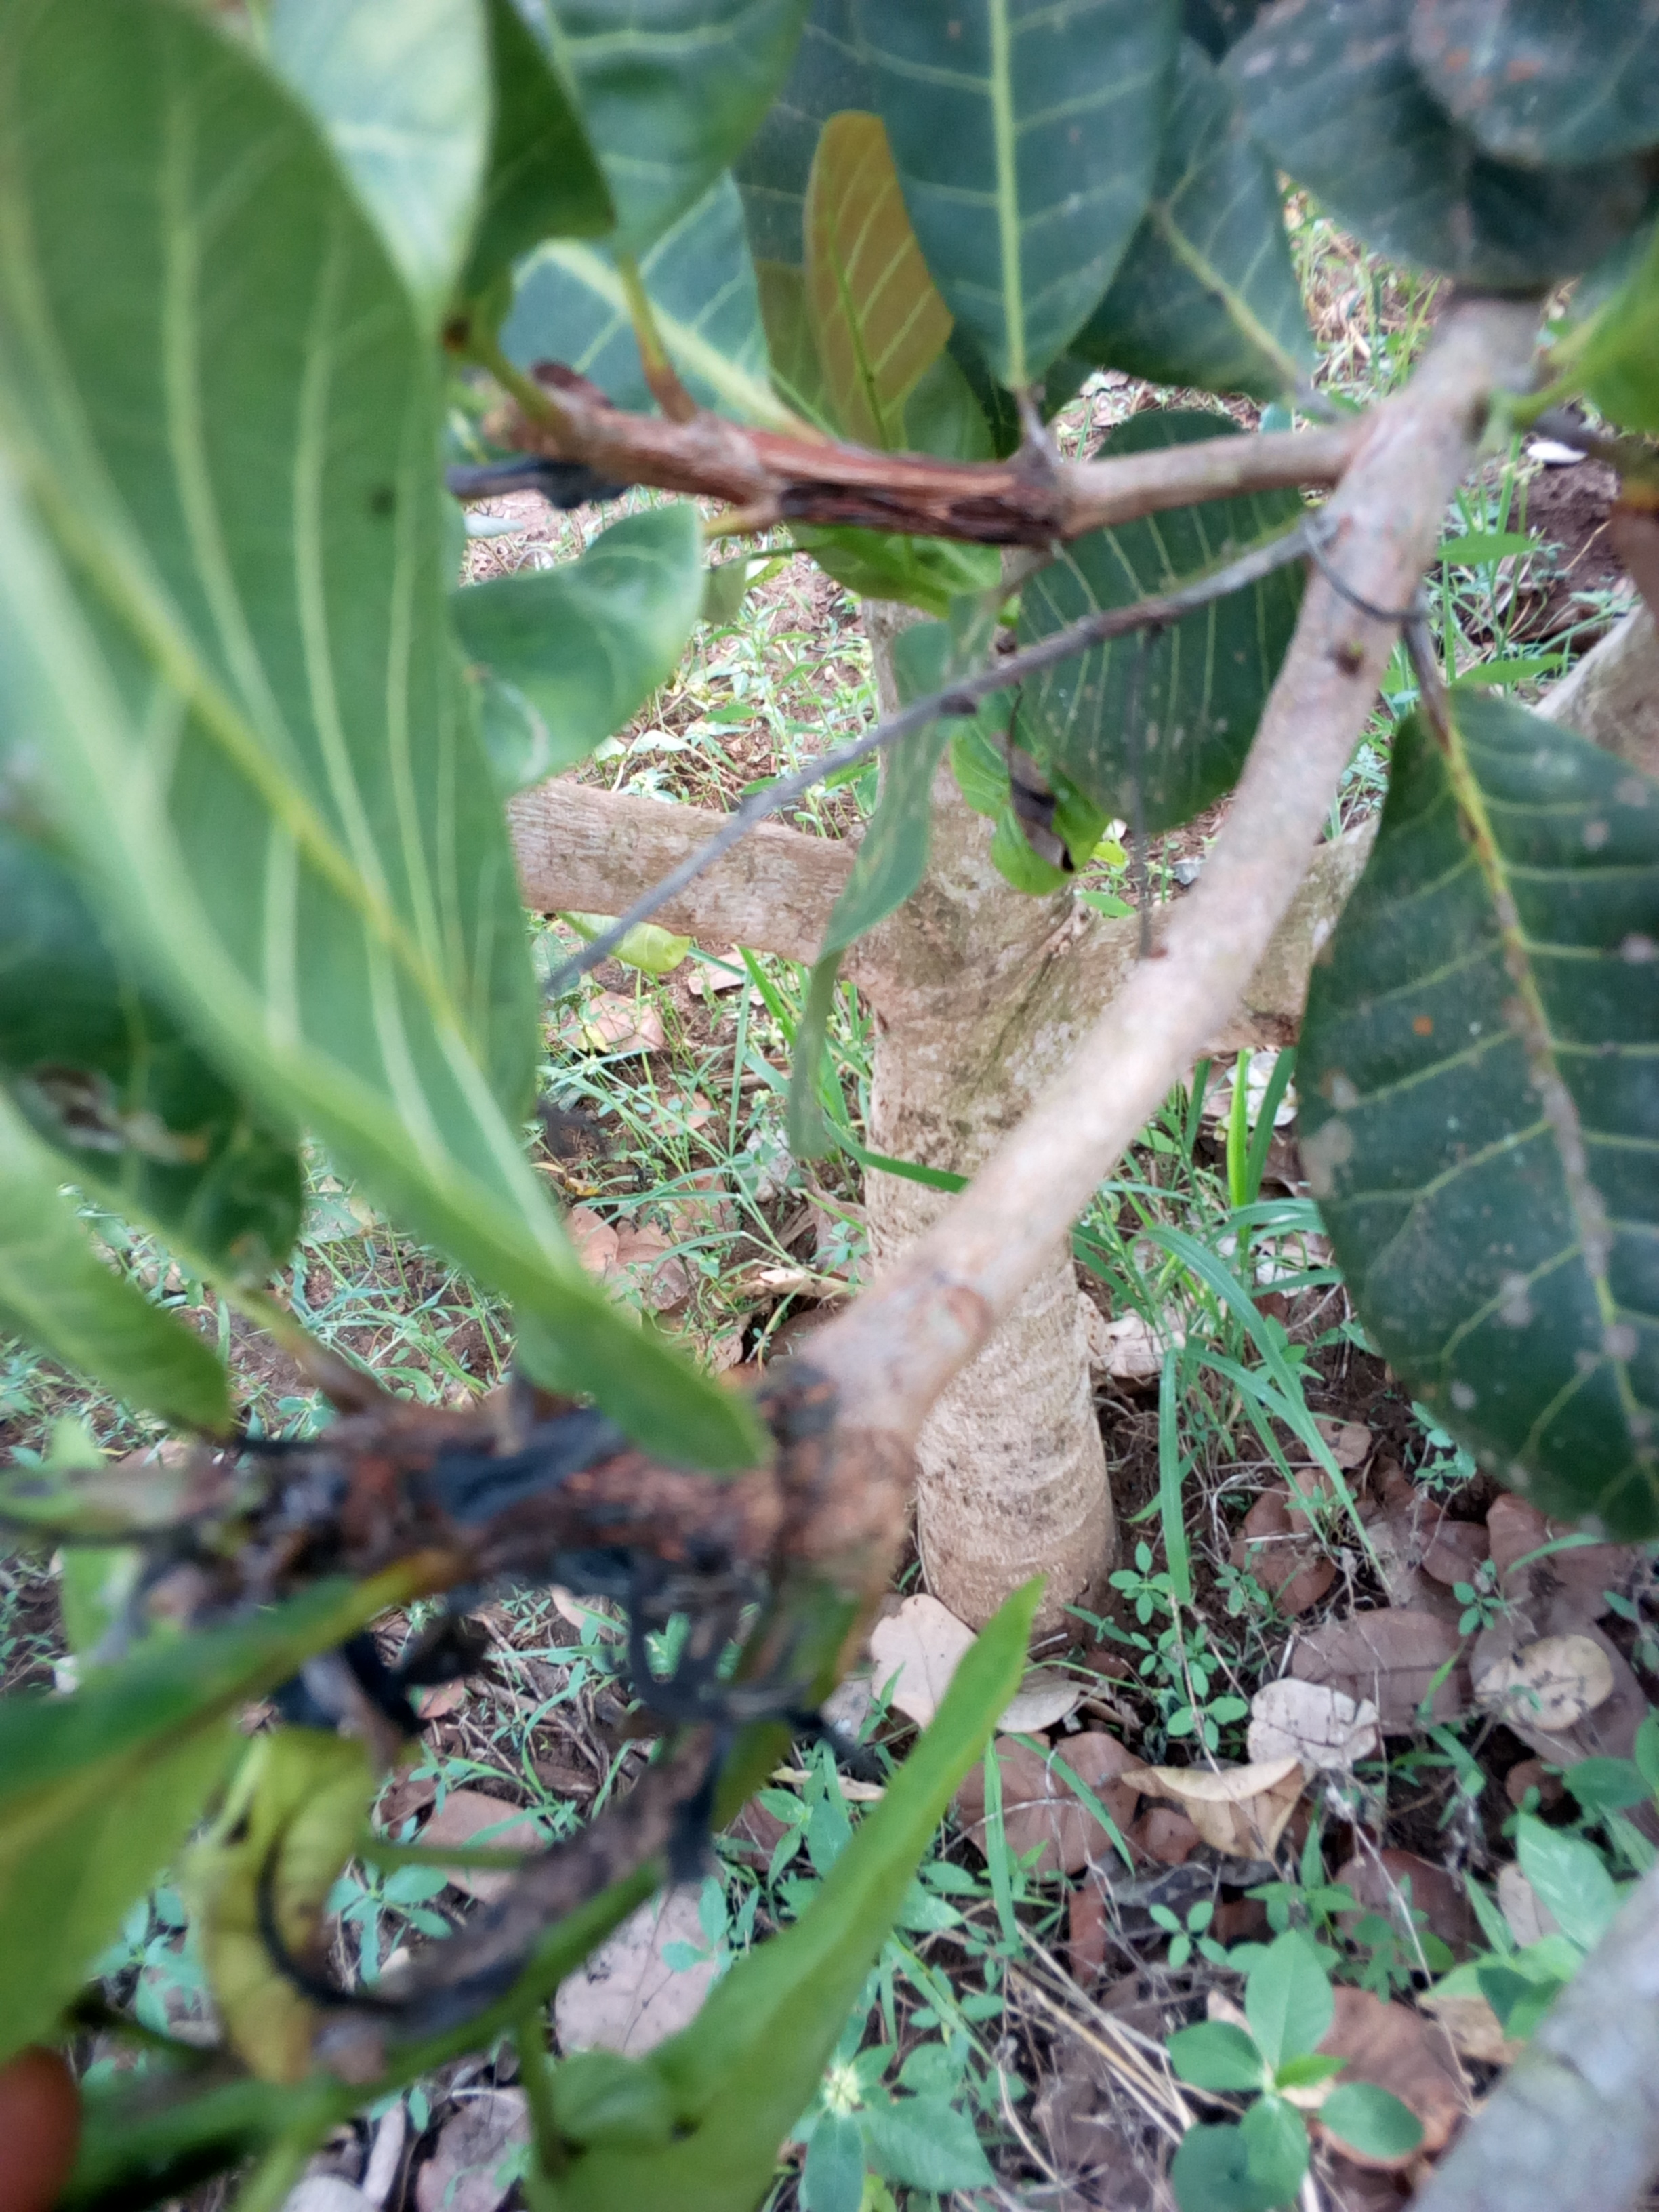Dessèchement des bourgeons: (195, 1421, 836, 2045), (650, 435, 1091, 550)
